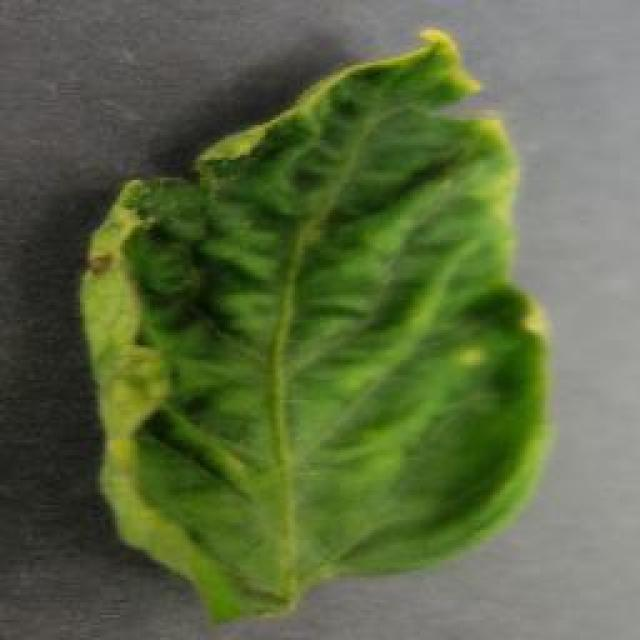Tom_Yellow_Leaf_Curl_Virus: (102, 108, 486, 592)
